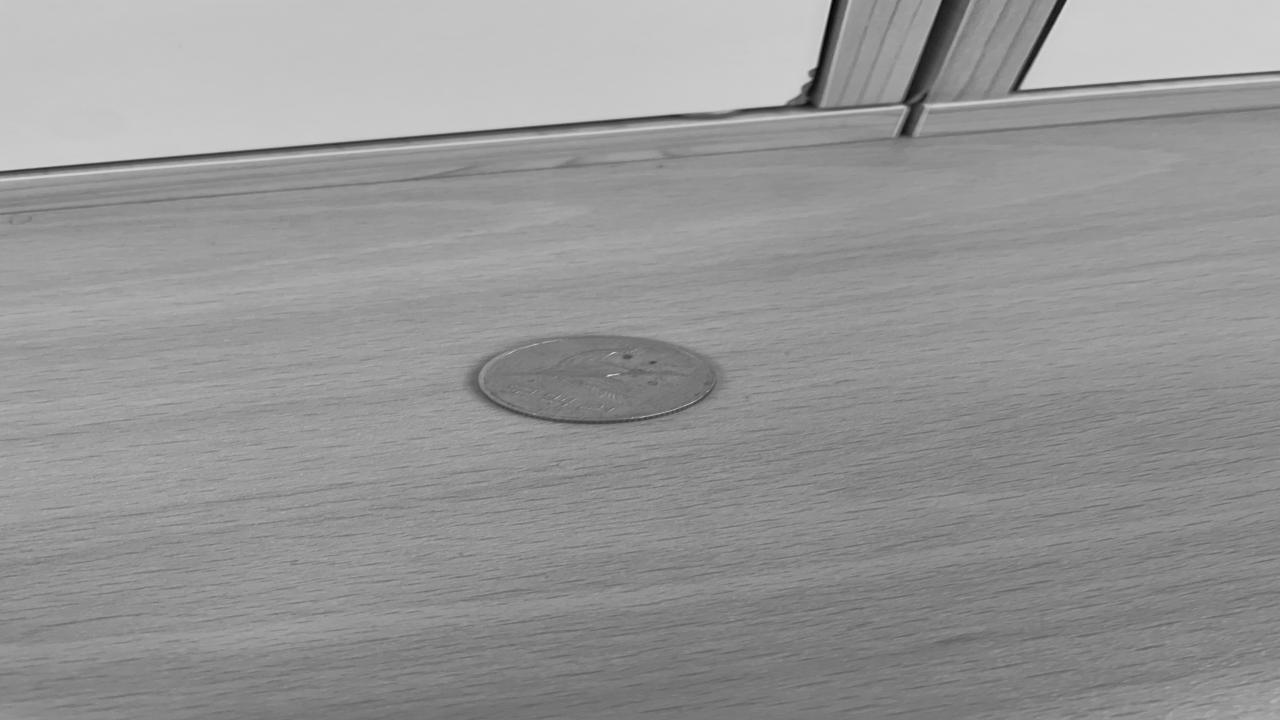coin: (466, 331, 726, 425)
